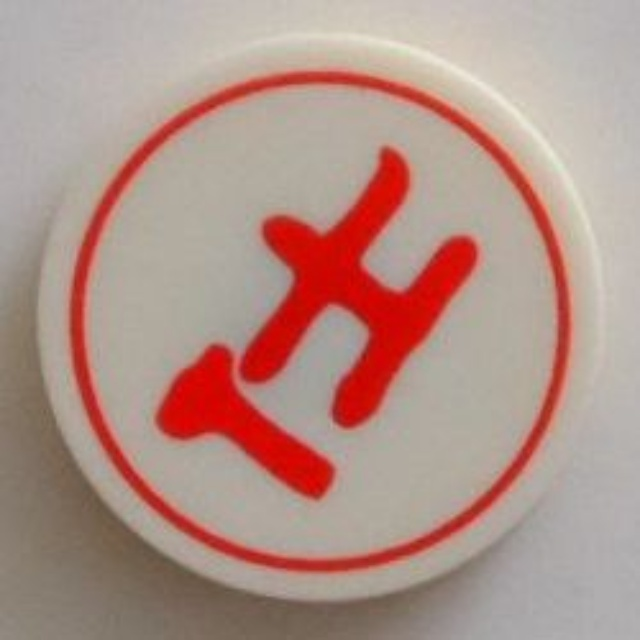red_si: (28, 30, 618, 608)
